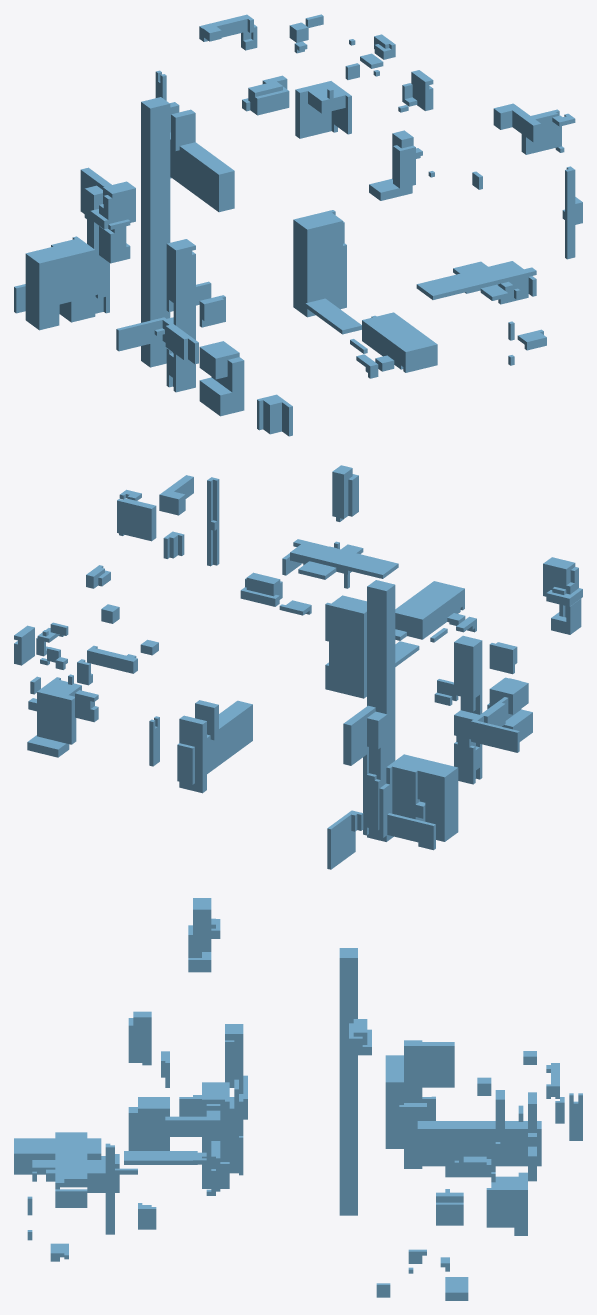
The picture shows the model from 3 angles, top to bottom: view 1: azimuth 30°, elevation 25°; view 2: azimuth 150°, elevation 25°; view 3: azimuth 270°, elevation 25°; orthographic projection. The views are drawn at different scales.
Visible parts, largest first — view 1: 玻璃; view 2: 玻璃; view 3: 玻璃.
Boxes of the visible parts, x1=… form: 玻璃: x1=14, y1=14, x2=582, y2=436; 玻璃: x1=14, y1=465, x2=582, y2=869; 玻璃: x1=14, y1=898, x2=582, y2=1300.
Size of the model in its own units: 118 by 64 by 124.
Materials: 1 (1 with a texture image).
